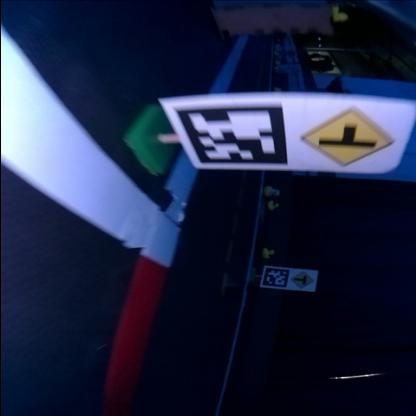Duckie: (263, 188, 280, 197), (267, 202, 279, 212), (262, 249, 272, 257)
Intersection sign: (296, 108, 398, 170), (290, 270, 312, 288)
QR code: (173, 105, 287, 164), (261, 267, 286, 290)
